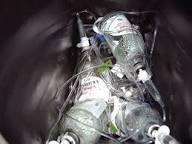Iv_Bottle: (60, 50, 109, 143), (97, 13, 150, 78)
